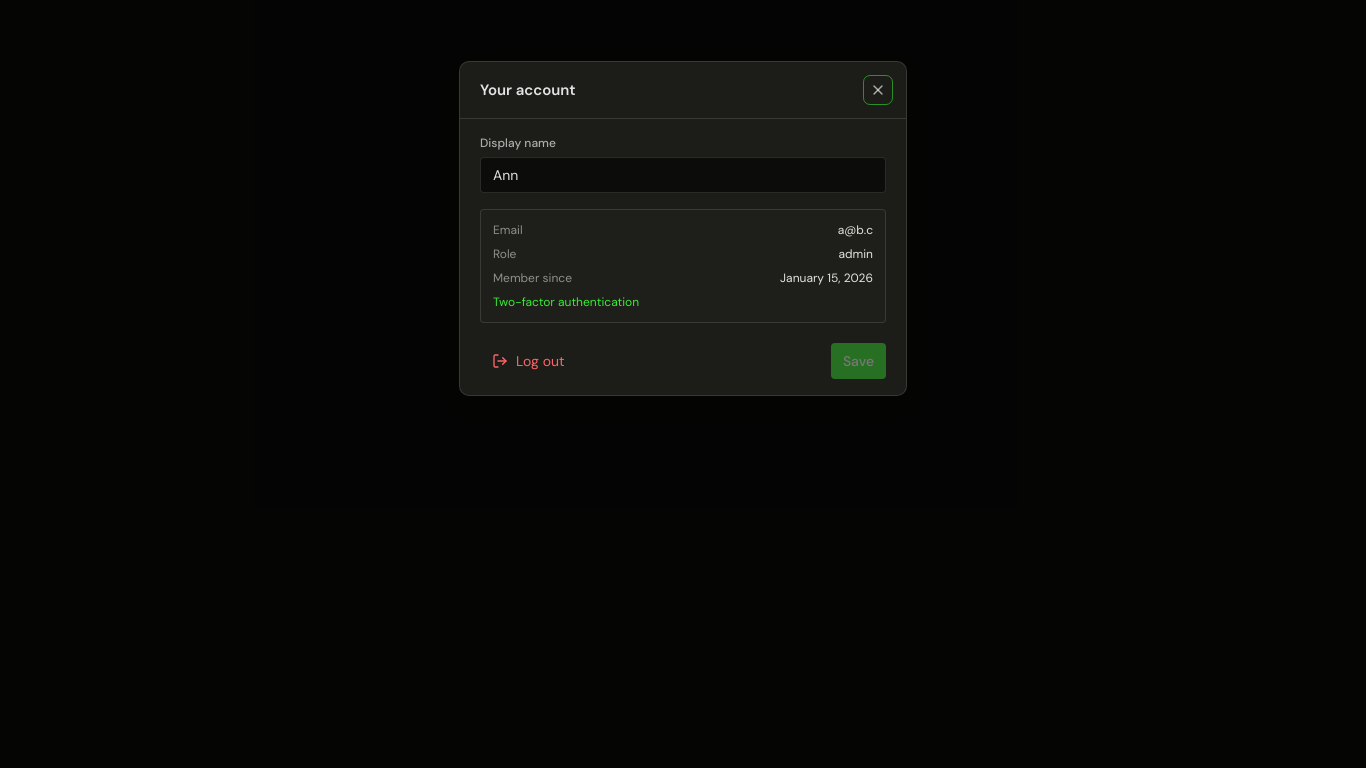
Test: ProfileDialog › shows why saving failed
This screenshot has width=1366, height=768.
Type "x" into the field with placeholder "Your name" at x=683, y=175, box [480,157,886,193]
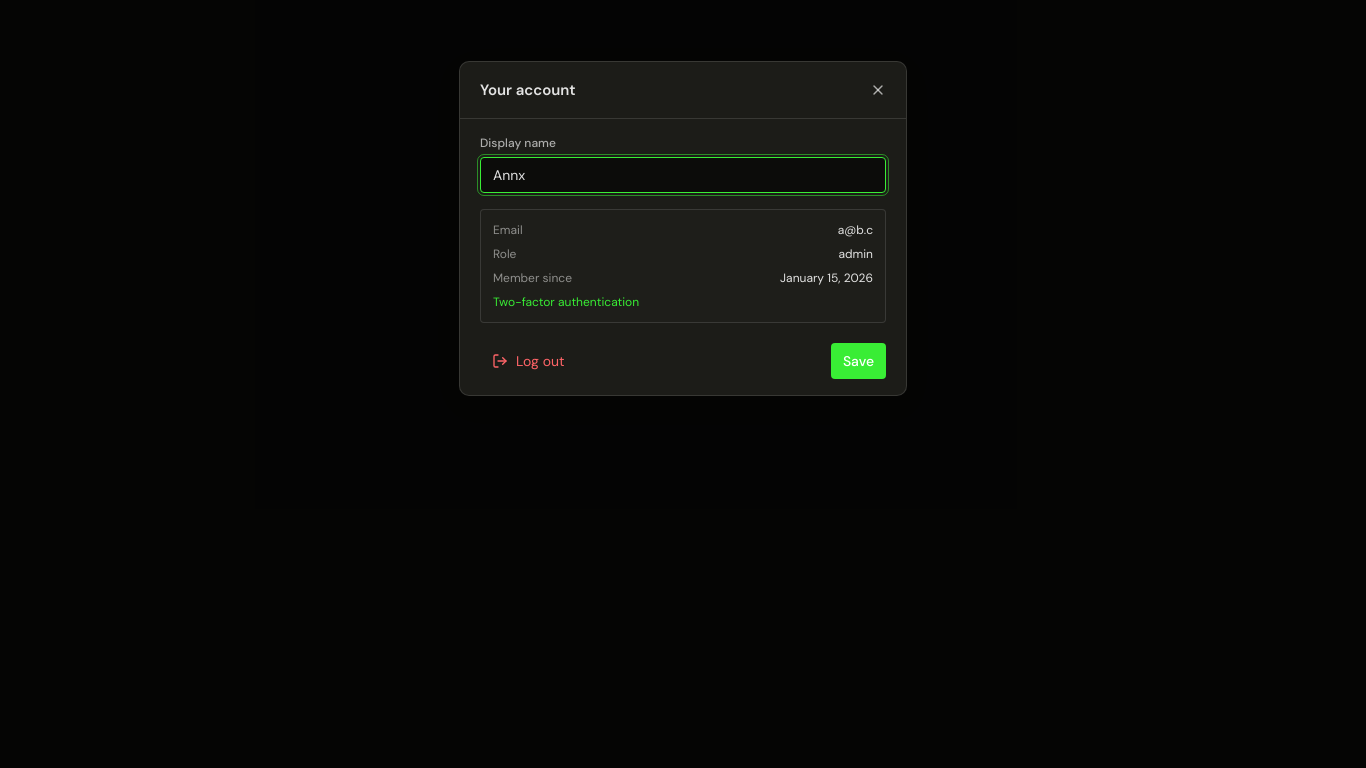
Click the button "Save" at x=858, y=361, box [831,343,886,379]
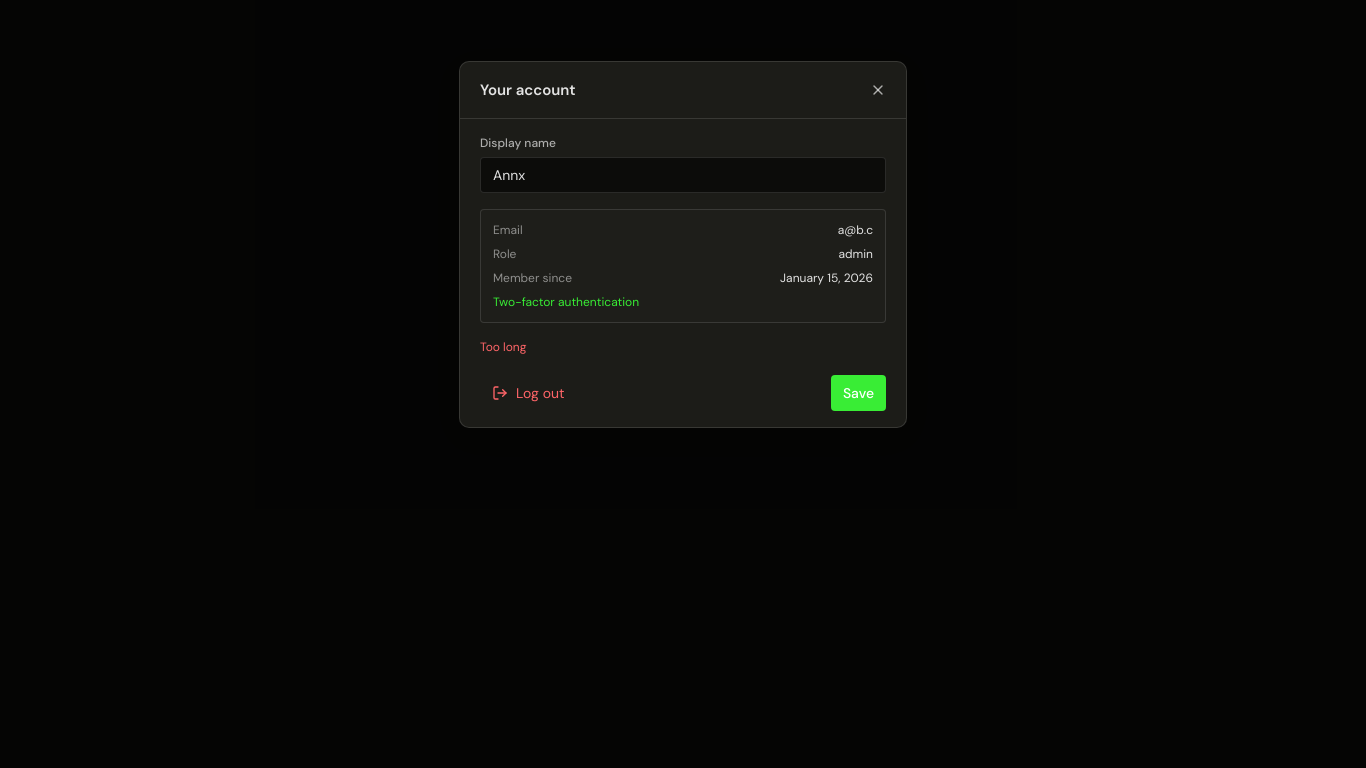
Expected: the text "Too long" is shown, [480,339,526,355]
